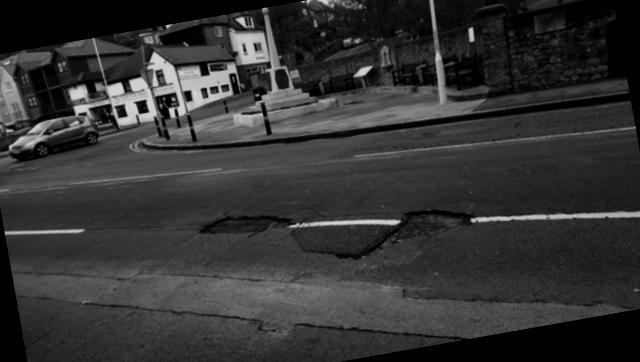Pothole: (198, 156, 479, 299)
